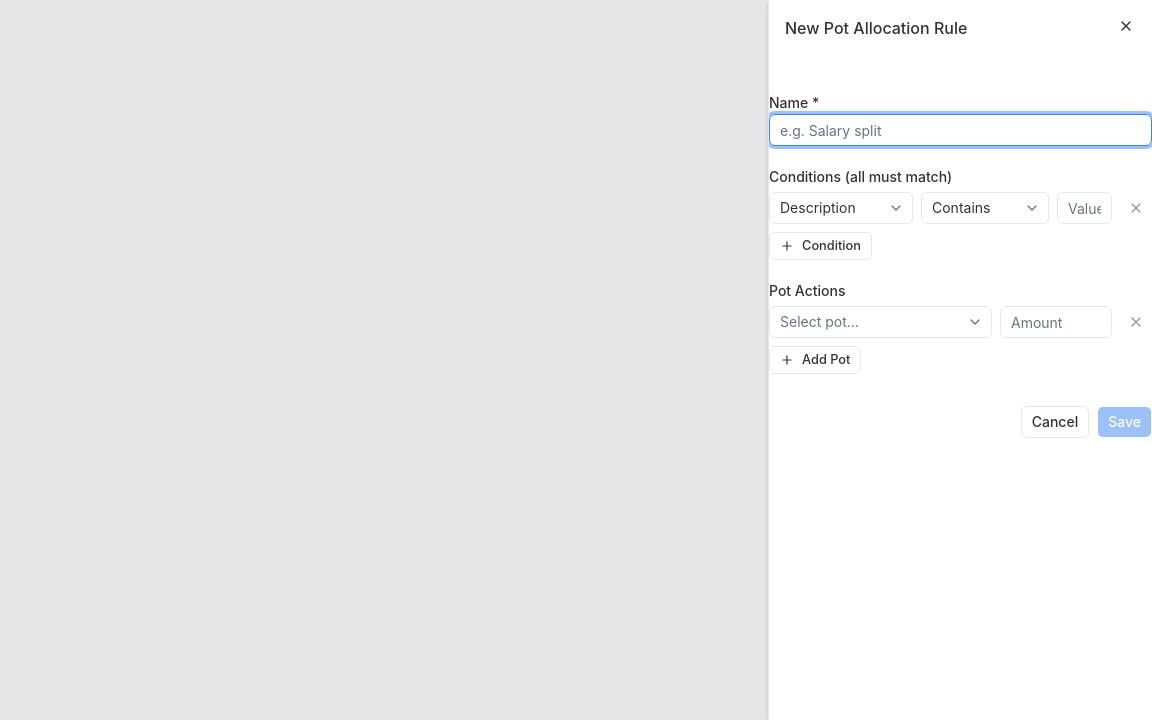
Test: PotAllocationRuleBuilderSheet — condition rows › remove button is enabled when more than one condition row exists
Click the button with test id "par-add-condition".
click(820, 246)  # box 769,232 -> 872,260
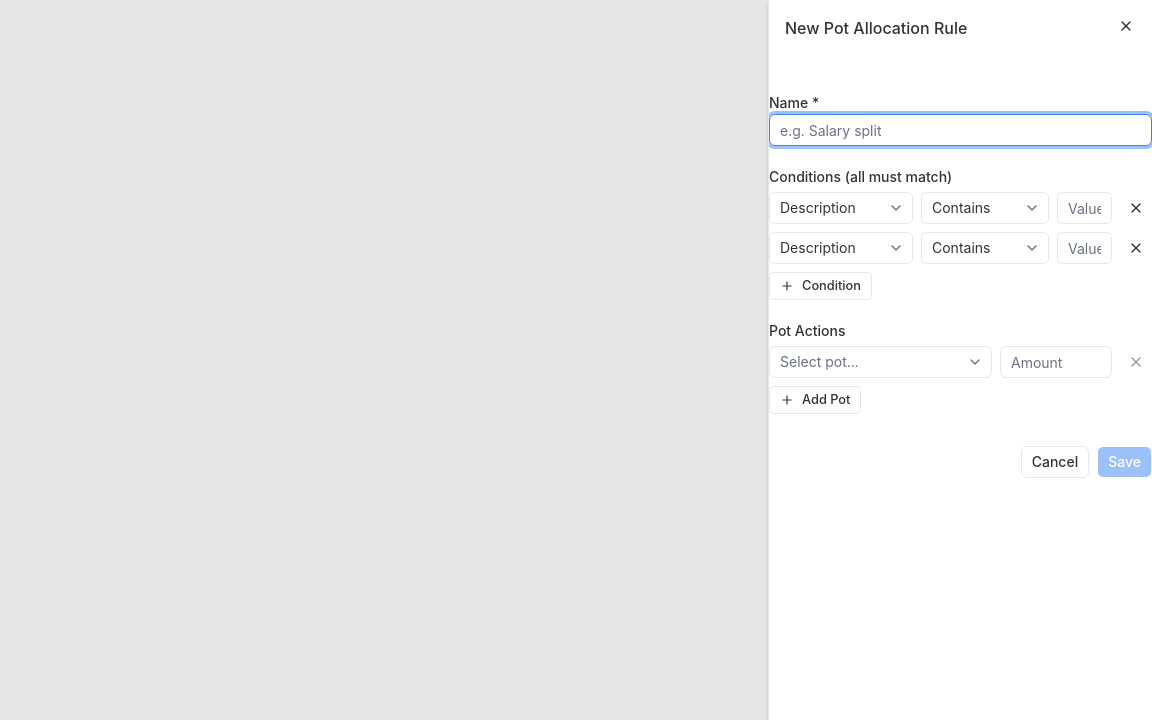
Expected: the button with test id "par-cond-remove-1" is shown, 1120,232 -> 1151,264
Expected: the button with test id "par-cond-remove-0" is enabled, 1120,192 -> 1151,224
